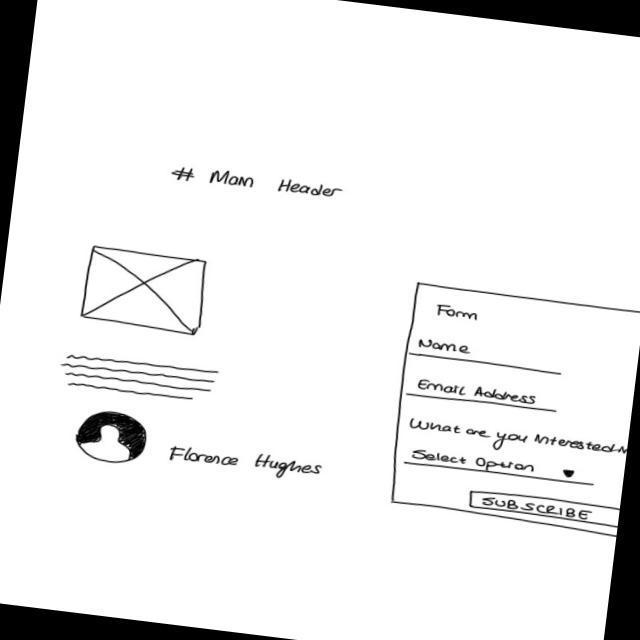button: (468, 487, 621, 529)
container: (383, 279, 640, 542)
image: (80, 245, 212, 338), (74, 406, 153, 468)
input: (409, 336, 568, 378), (407, 376, 561, 415)
label: (405, 415, 629, 468), (165, 442, 327, 487), (171, 164, 346, 203), (433, 301, 483, 323)
select: (403, 446, 598, 489)
textbox: (58, 351, 221, 407)
